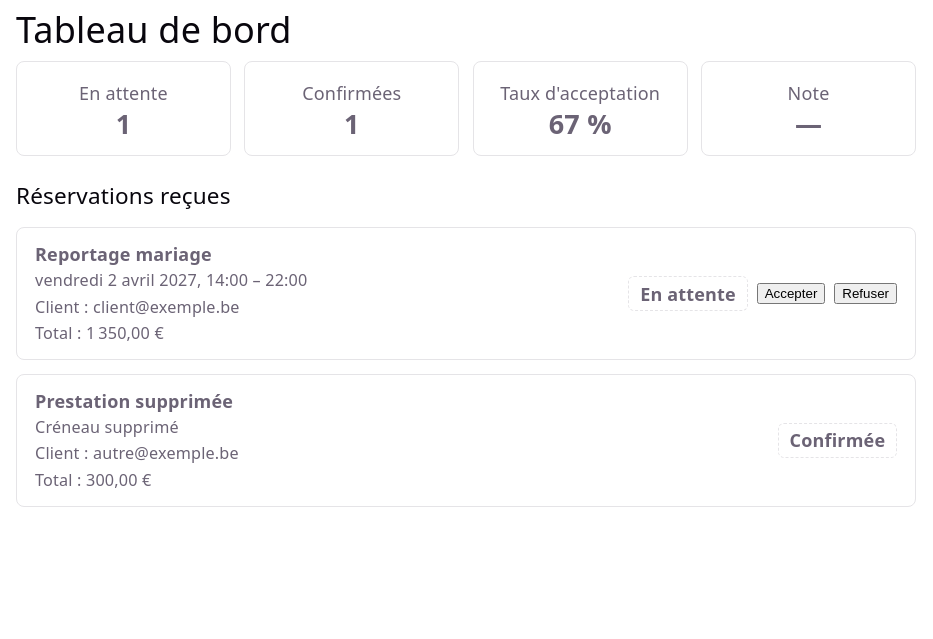
Test: TableauDeBord (#32, wireframe 08) › referme le formulaire de refus sans rien envoyer
Click the button "Refuser". click: (866, 294)
box: [834,283,897,304]
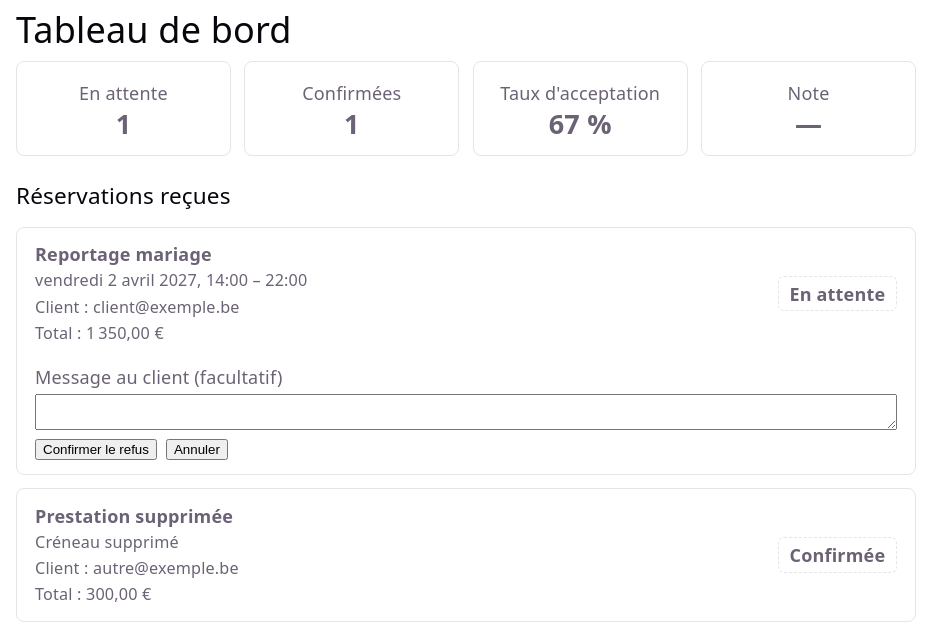
Click the button "Annuler". click: (197, 450)
box: [166,439,228,460]
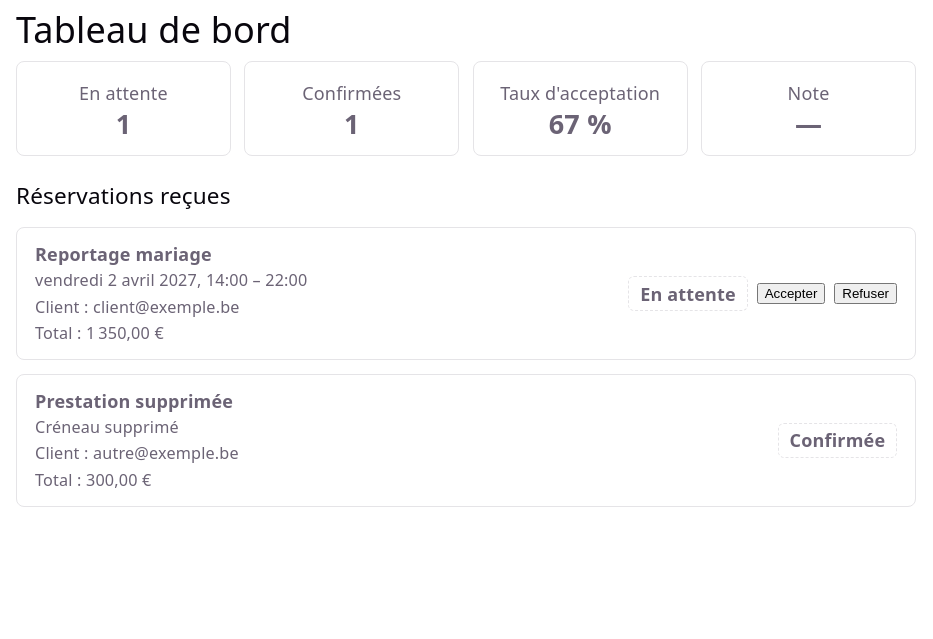
Result: the label labelled "Message au client (facultatif)" is gone
